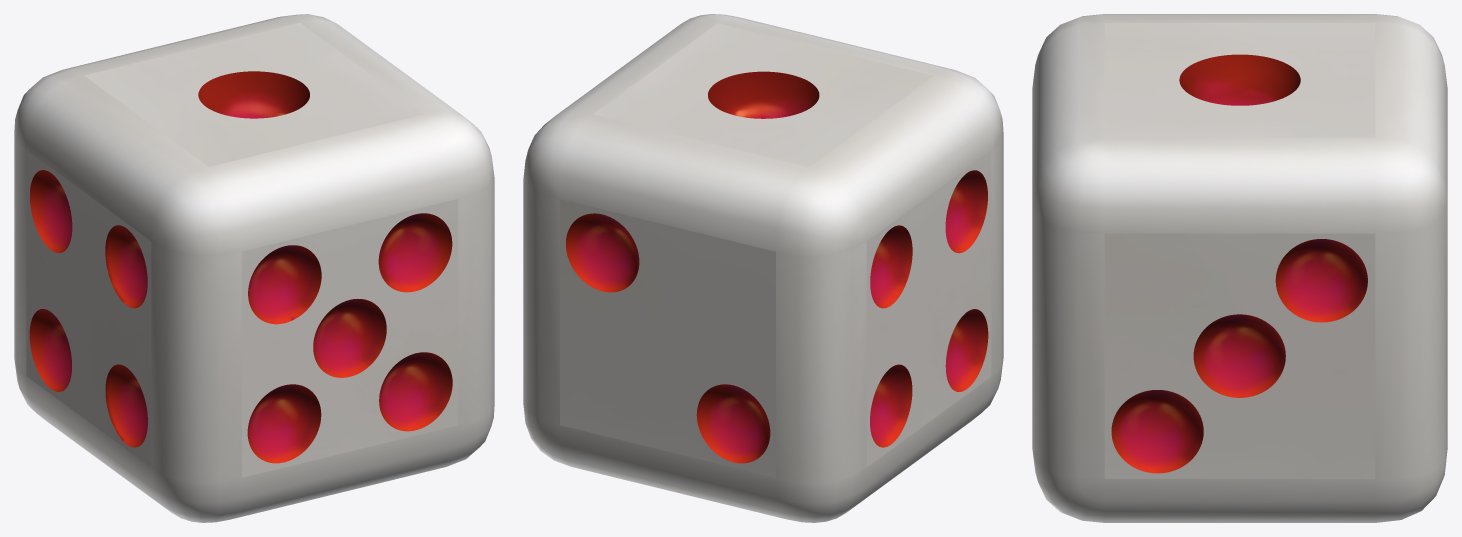
The model's file is Touzi.FBX.
3 renders of one model, left to right at view 1: azimuth 30°, elevation 25°; view 2: azimuth 150°, elevation 25°; view 3: azimuth 270°, elevation 25°, orthographic. The views are drawn at different scales.
Visible parts, largest first — view 1: Touzi; view 2: Touzi; view 3: Touzi.
Part boxes in pixels (x1,y1,x2,y2): Touzi: (14,14,494,522); Touzi: (523,14,1003,522); Touzi: (1032,14,1447,522).
Bounding box in the file's own units: 50 × 50 × 50.
Materials: 1 (1 with a texture image).
